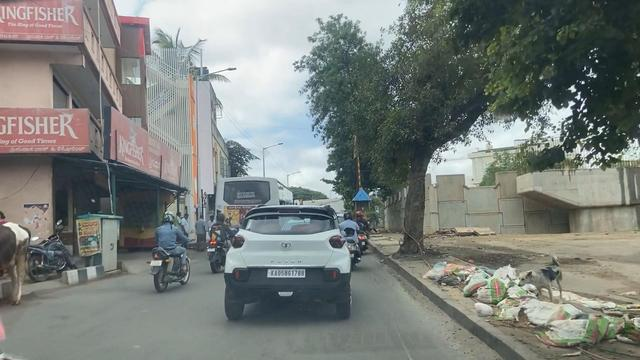LMV: (233, 206, 338, 321), (149, 209, 189, 293)
